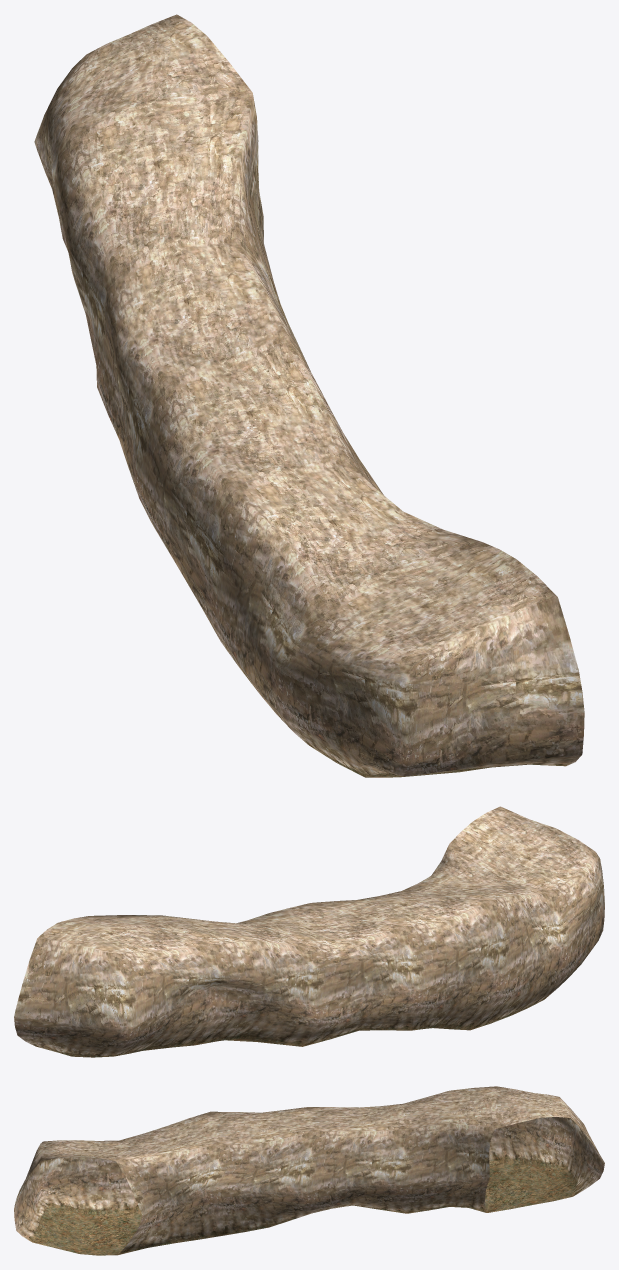
Rendered from thm_all_cave_flatland_s02_r6_mesh_r6.fbx.
3 renders of one model, top to bottom at view 1: azimuth 30°, elevation 25°; view 2: azimuth 150°, elevation 25°; view 3: azimuth 270°, elevation 25°, orthographic. The views are drawn at different scales.
Visible parts, largest first — view 1: mesh_node; view 2: mesh_node; view 3: mesh_node.
Boxes of the visible parts, <box> form: mesh_node: <box>34,14,584,777</box>; mesh_node: <box>14,806,604,1057</box>; mesh_node: <box>14,1086,604,1255</box>.
Size of the model in its own units: 21.61 by 21.57 by 65.39.
